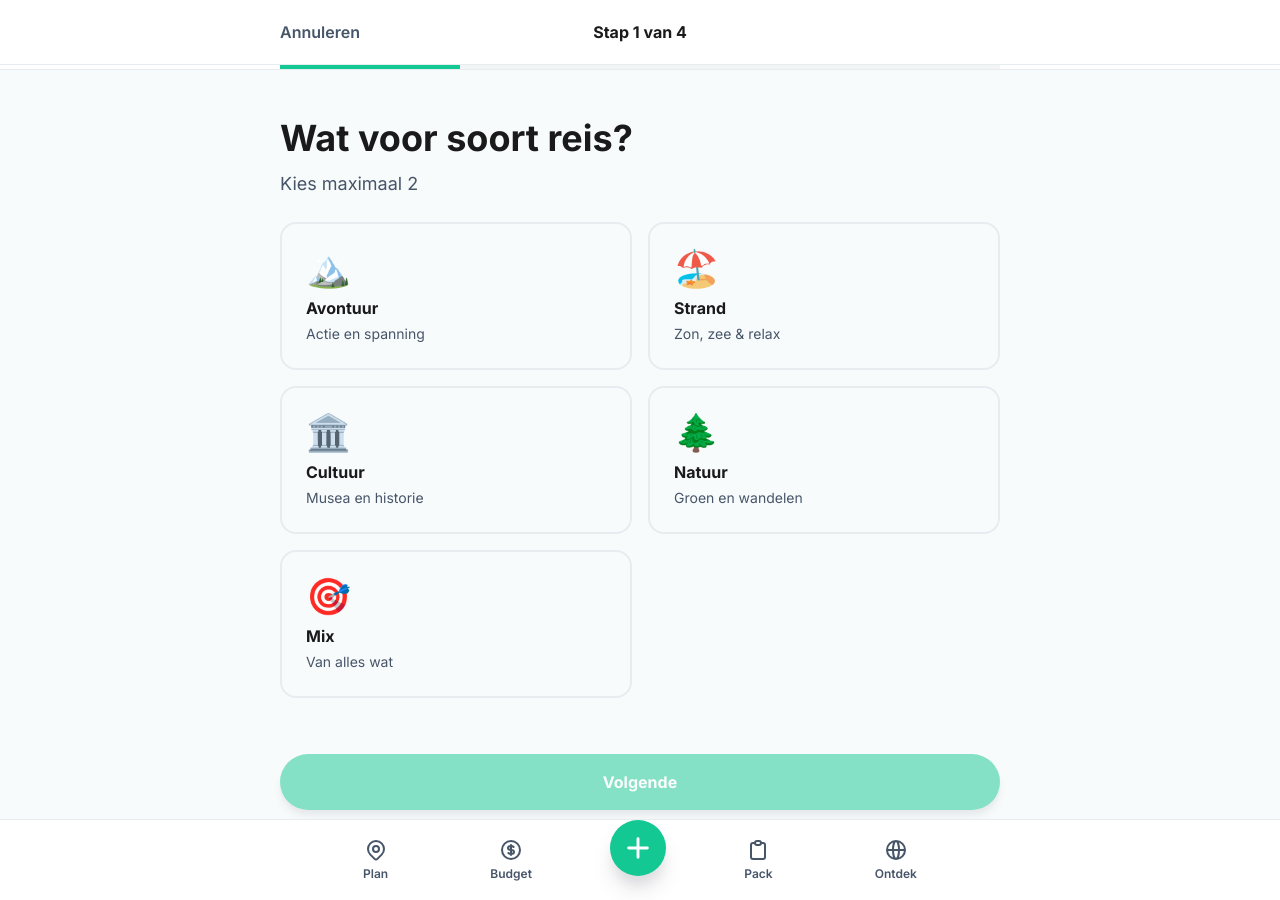
Test: NewTripForm Validation - Unit Tests › Step 1: Trip Type Validation › should allow maximum 2 trip types to be selected
Click the button "🏔️ Avontuur Actie en spanning" at {"x": 328, "y": 268}, box [280,222,632,370]
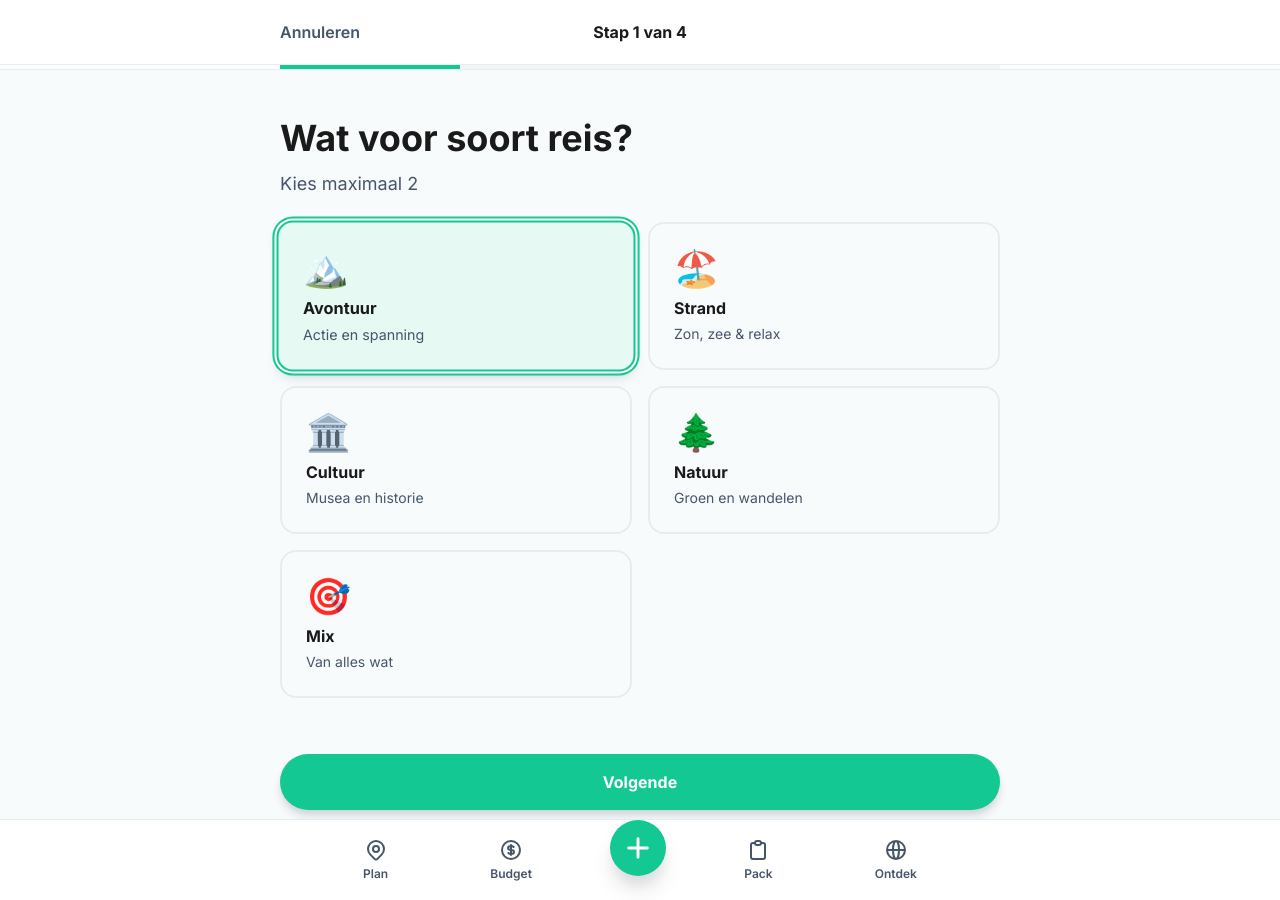
Click the button "🏖️ Strand Zon, zee & relax" at {"x": 696, "y": 268}, box [648,222,1000,370]
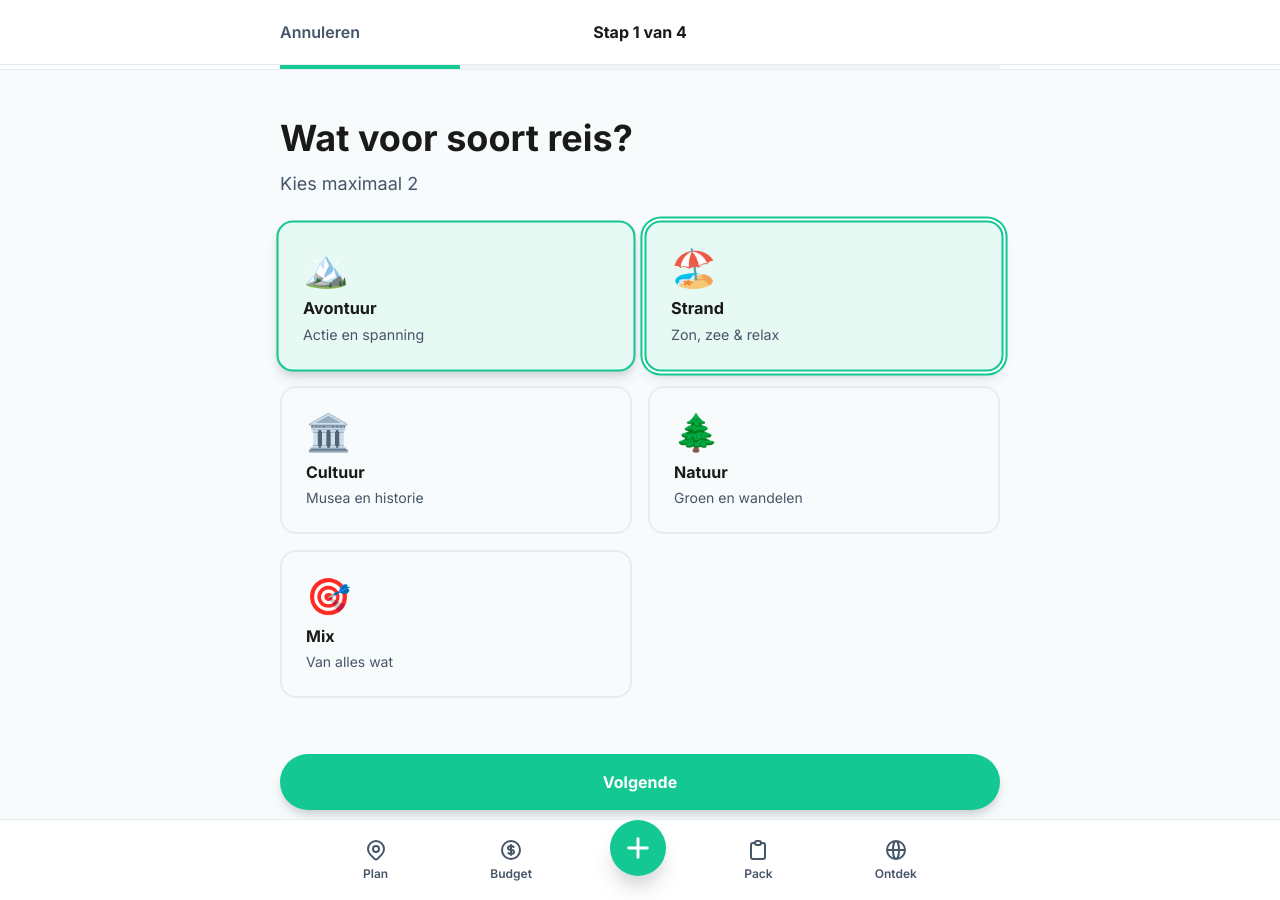
Click the button "🏛️ Cultuur Musea en historie" at {"x": 328, "y": 432}, box [280,386,632,534]
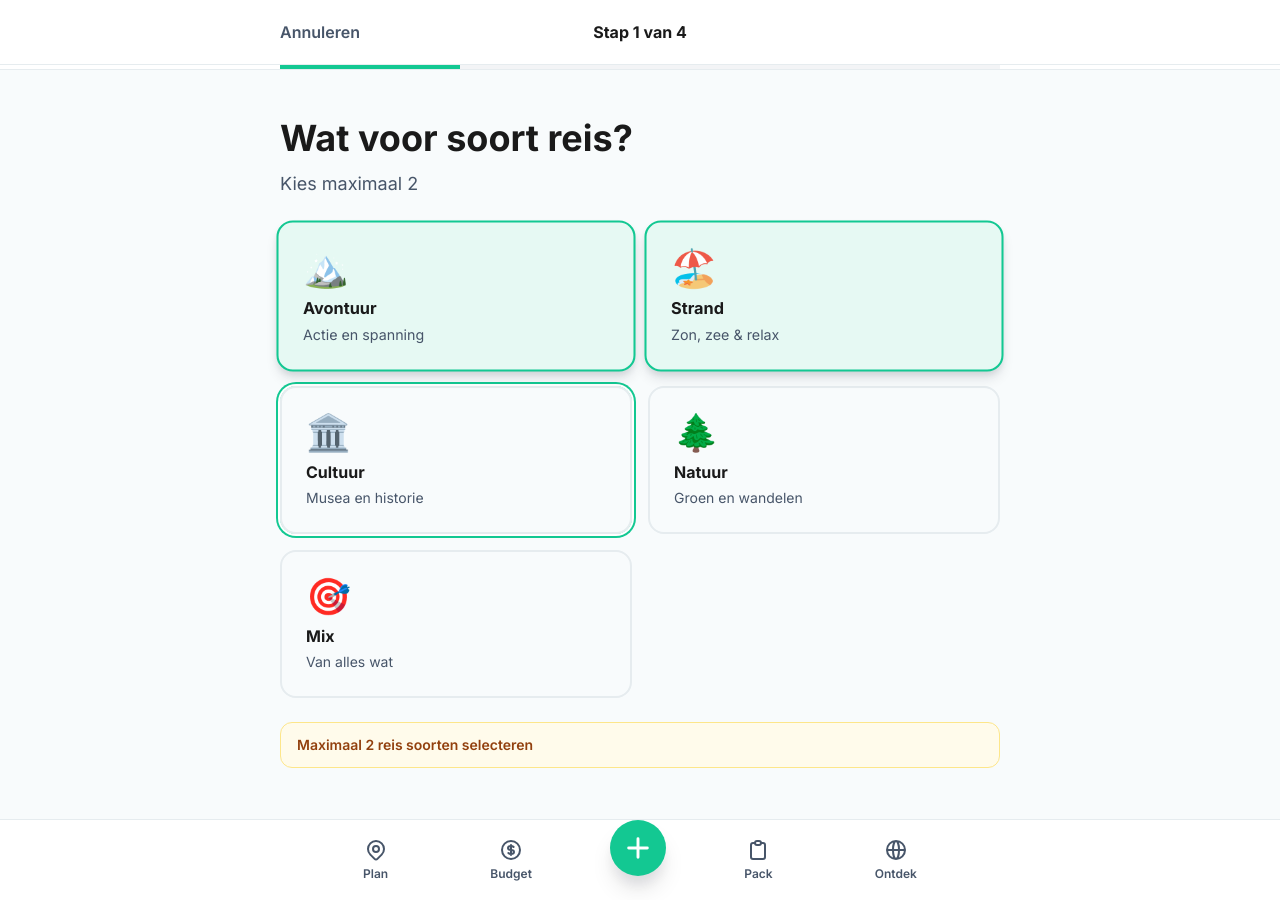
Result: the text "Maximaal 2 reis soorten selecteren" is shown at [280,722,1000,768]
